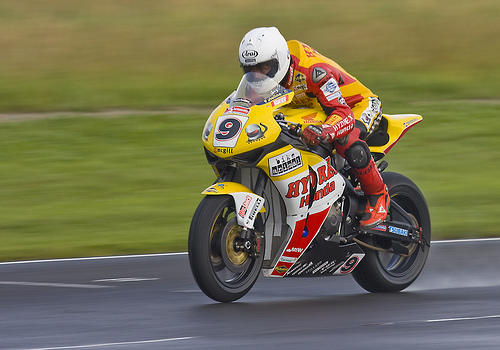helmet: (234, 23, 288, 90)
